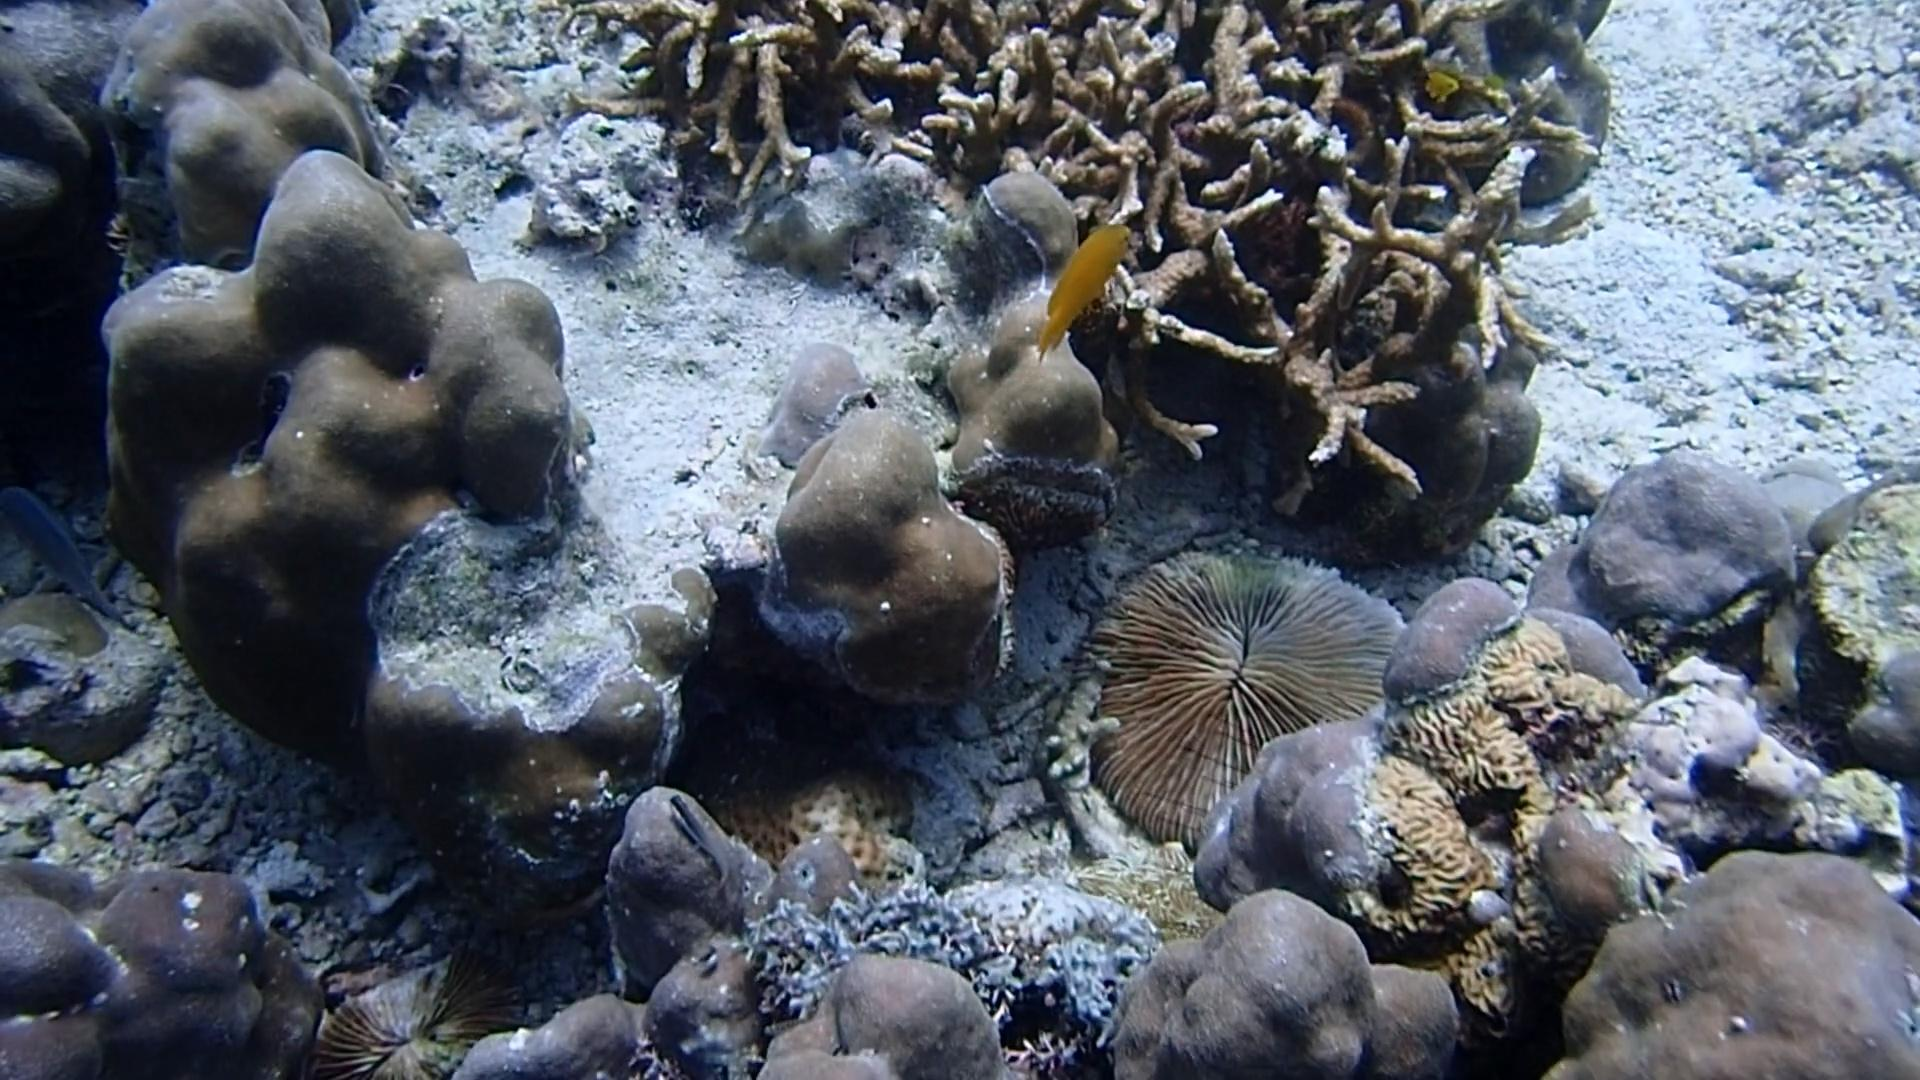Blue Fish Two: (0, 475, 145, 644)
Yellow Fish: (1031, 210, 1131, 368), (1418, 62, 1464, 108)
